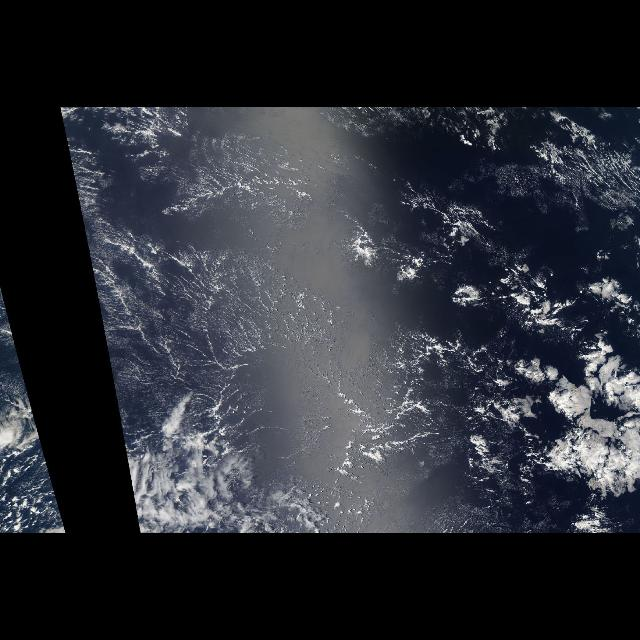Sugar: (128, 152, 318, 382)
